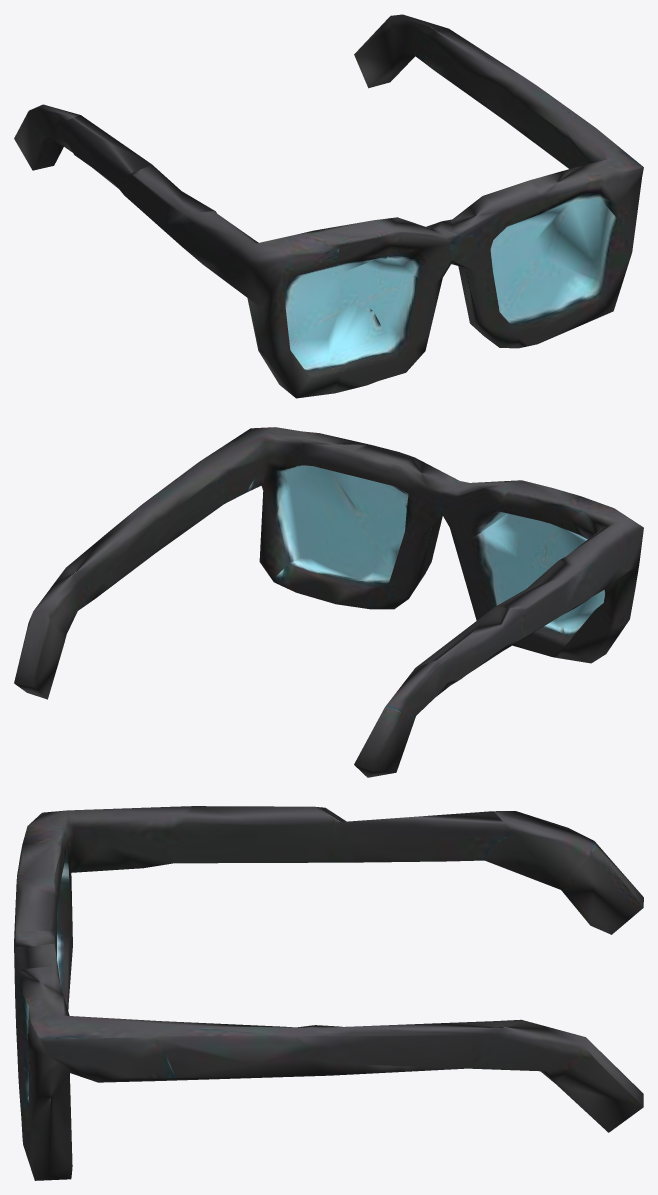
The model's file is glasses.glb.
3 views of the same model, one above another, from view 1: azimuth 30°, elevation 25°; view 2: azimuth 150°, elevation 25°; view 3: azimuth 270°, elevation 25° (orthographic). The views are drawn at different scales.
Visible parts, largest first — view 1: tripo_node_80609a76-f568-4e89-a9cc-cfc02e46ec61; view 2: tripo_node_80609a76-f568-4e89-a9cc-cfc02e46ec61; view 3: tripo_node_80609a76-f568-4e89-a9cc-cfc02e46ec61.
Part boxes in pixels (bbox=[...]): tripo_node_80609a76-f568-4e89-a9cc-cfc02e46ec61: bbox=[14, 14, 643, 398]; tripo_node_80609a76-f568-4e89-a9cc-cfc02e46ec61: bbox=[14, 427, 643, 777]; tripo_node_80609a76-f568-4e89-a9cc-cfc02e46ec61: bbox=[14, 806, 643, 1180].
Bounding box in the file's own units: 0.8832 × 0.3243 × 0.9999.
1 material, 1 textured.
